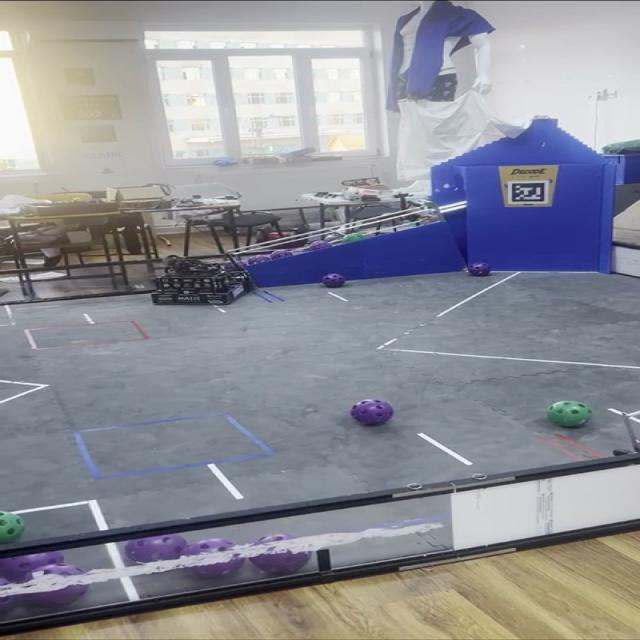artifact_green: (547, 401, 593, 427), (0, 512, 25, 544), (343, 232, 367, 242), (71, 198, 83, 203)
artifact_purple: (250, 534, 310, 574), (0, 551, 63, 582), (126, 535, 187, 562), (24, 585, 87, 607), (190, 555, 243, 577), (351, 400, 394, 426), (0, 593, 17, 614), (322, 274, 346, 287), (467, 263, 490, 276), (270, 249, 293, 260), (247, 255, 270, 266), (308, 240, 331, 251), (323, 232, 343, 242), (224, 261, 246, 270)
